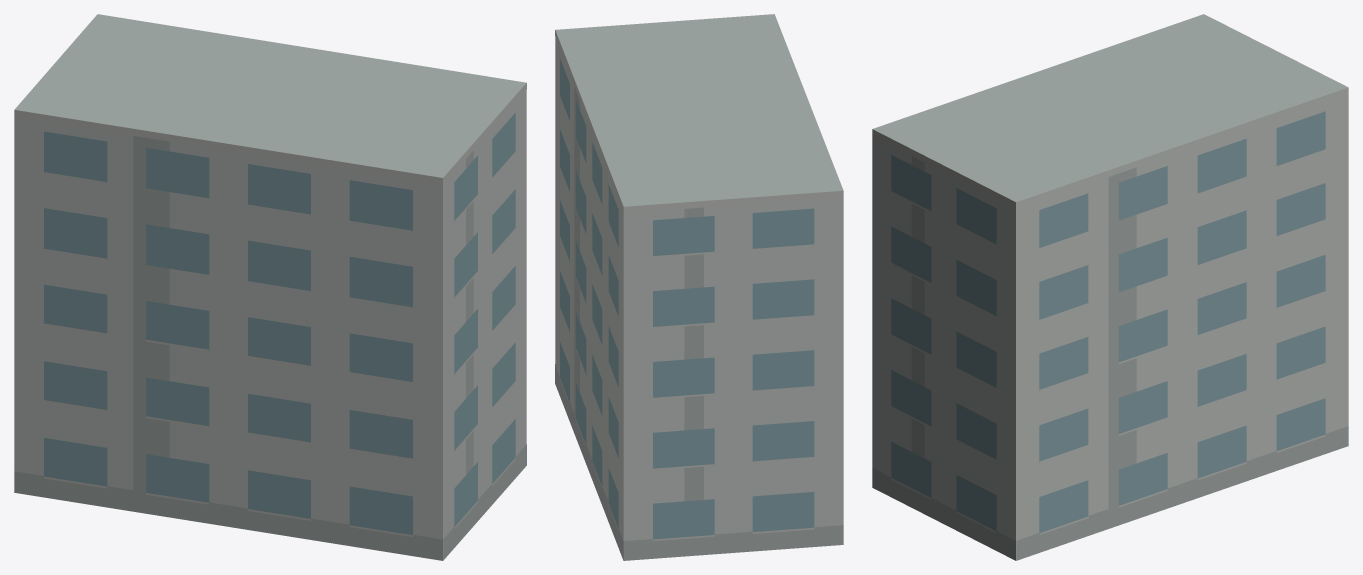
File: survey-upis-32886716.glb
3 views of the same model, side by side, from view 1: azimuth 30°, elevation 25°; view 2: azimuth 150°, elevation 25°; view 3: azimuth 270°, elevation 25° (orthographic). The views are drawn at different scales.
Visible parts, largest first — view 1: survey-upis-32886716.tmp; view 2: survey-upis-32886716.tmp; view 3: survey-upis-32886716.tmp.
Part boxes in pixels (x1,y1,x2,y2): survey-upis-32886716.tmp: [14, 14, 526, 560]; survey-upis-32886716.tmp: [555, 14, 843, 560]; survey-upis-32886716.tmp: [872, 14, 1348, 560].
Bounding box in the file's own units: 14.76 × 13.1 × 15.78.
